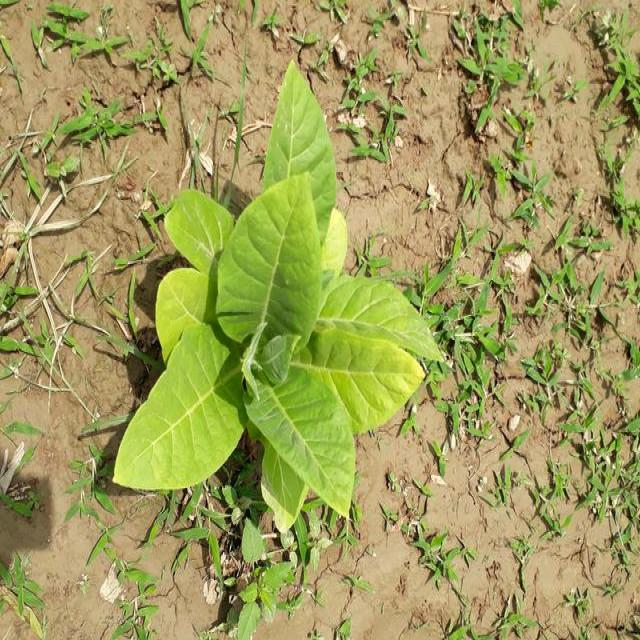crop: (111, 63, 436, 562)
